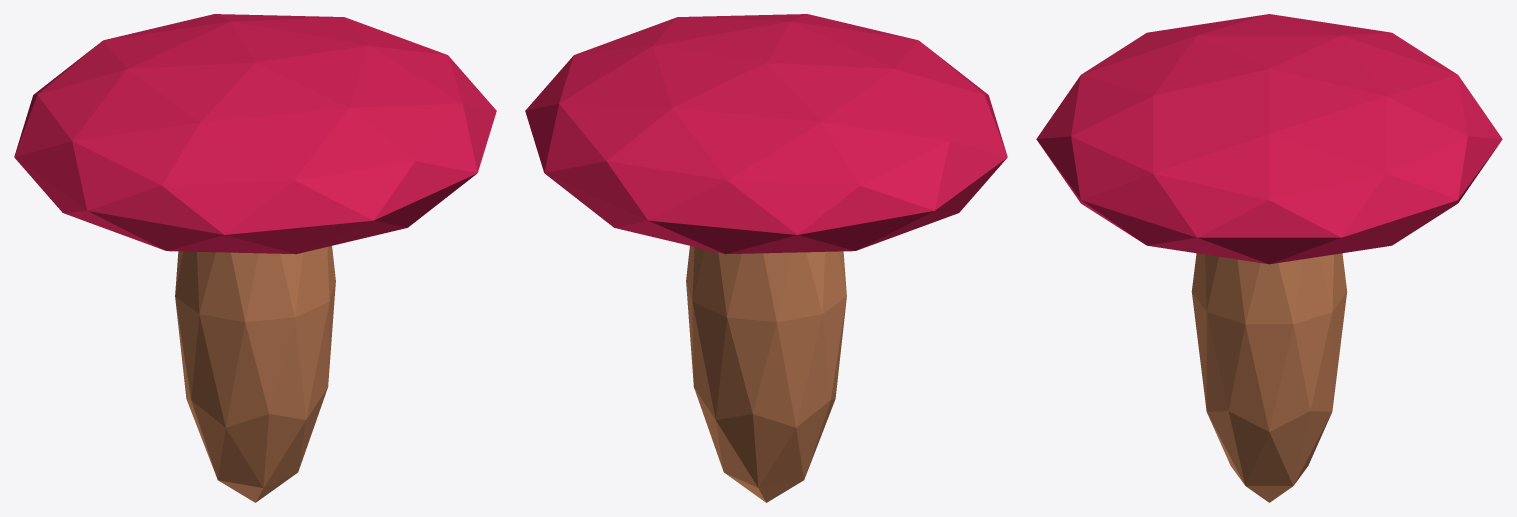
The model's file is shroom1.fbx.
3 views of the same model, side by side, from view 1: azimuth 30°, elevation 25°; view 2: azimuth 150°, elevation 25°; view 3: azimuth 270°, elevation 25° (orthographic).
Visible parts, largest first — view 1: Icosphere.001; view 2: Icosphere.001; view 3: Icosphere.001.
Part boxes in pixels (left/top/right/bottom): Icosphere.001: left=14, top=14, right=496, bottom=502; Icosphere.001: left=525, top=14, right=1007, bottom=502; Icosphere.001: left=1036, top=14, right=1502, bottom=502.
Bounding box in the file's own units: 600 × 616 × 600.
